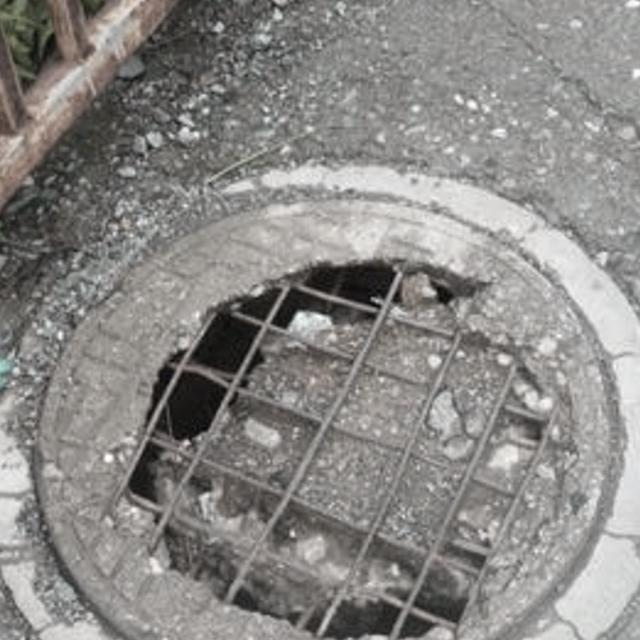broke: (0, 159, 640, 640)
